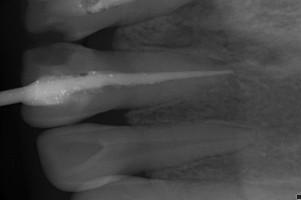Furcation Involvement: (143, 24, 252, 63), (173, 0, 218, 22)
